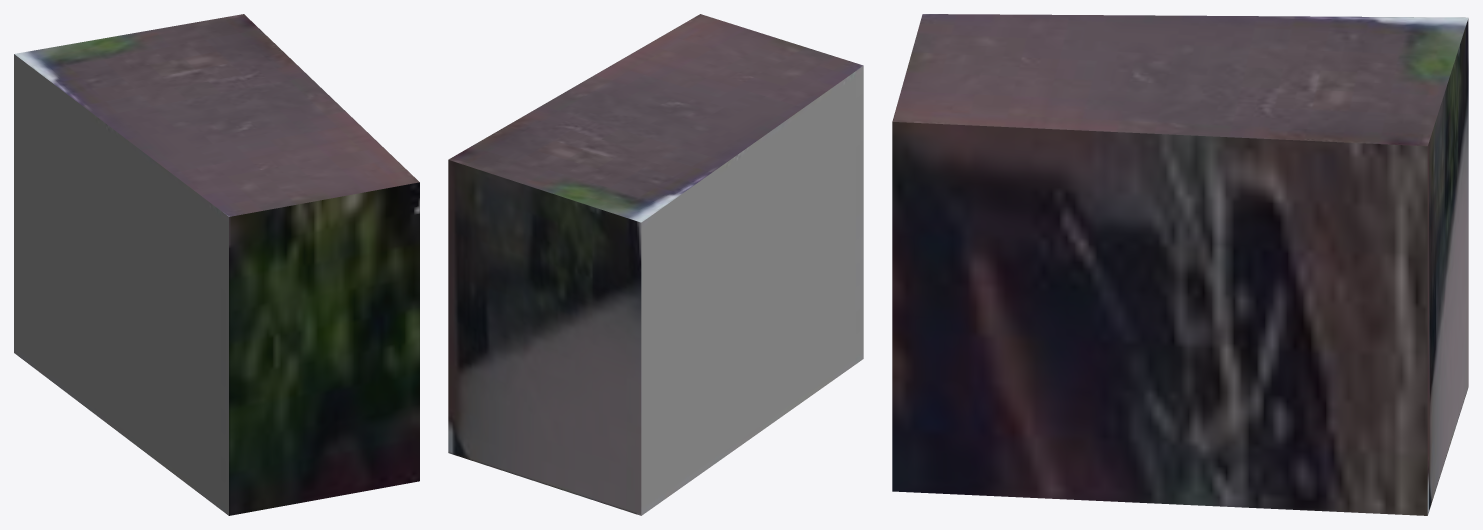
3 renders of one model, left to right at view 1: azimuth 30°, elevation 25°; view 2: azimuth 150°, elevation 25°; view 3: azimuth 270°, elevation 25°, orthographic. The views are drawn at different scales.
Parts seen in each view (by area): view 1: B293444042401062A0; view 2: B293444042401062A0; view 3: B293444042401062A0.
Boxes of the visible parts, <box> form: B293444042401062A0: <box>14,14,419,515</box>; B293444042401062A0: <box>448,14,863,515</box>; B293444042401062A0: <box>892,14,1468,515</box>.
Bounding box in the file's own units: 4.7 × 6.12 × 8.65.
Materials: 1 (1 with a texture image).
